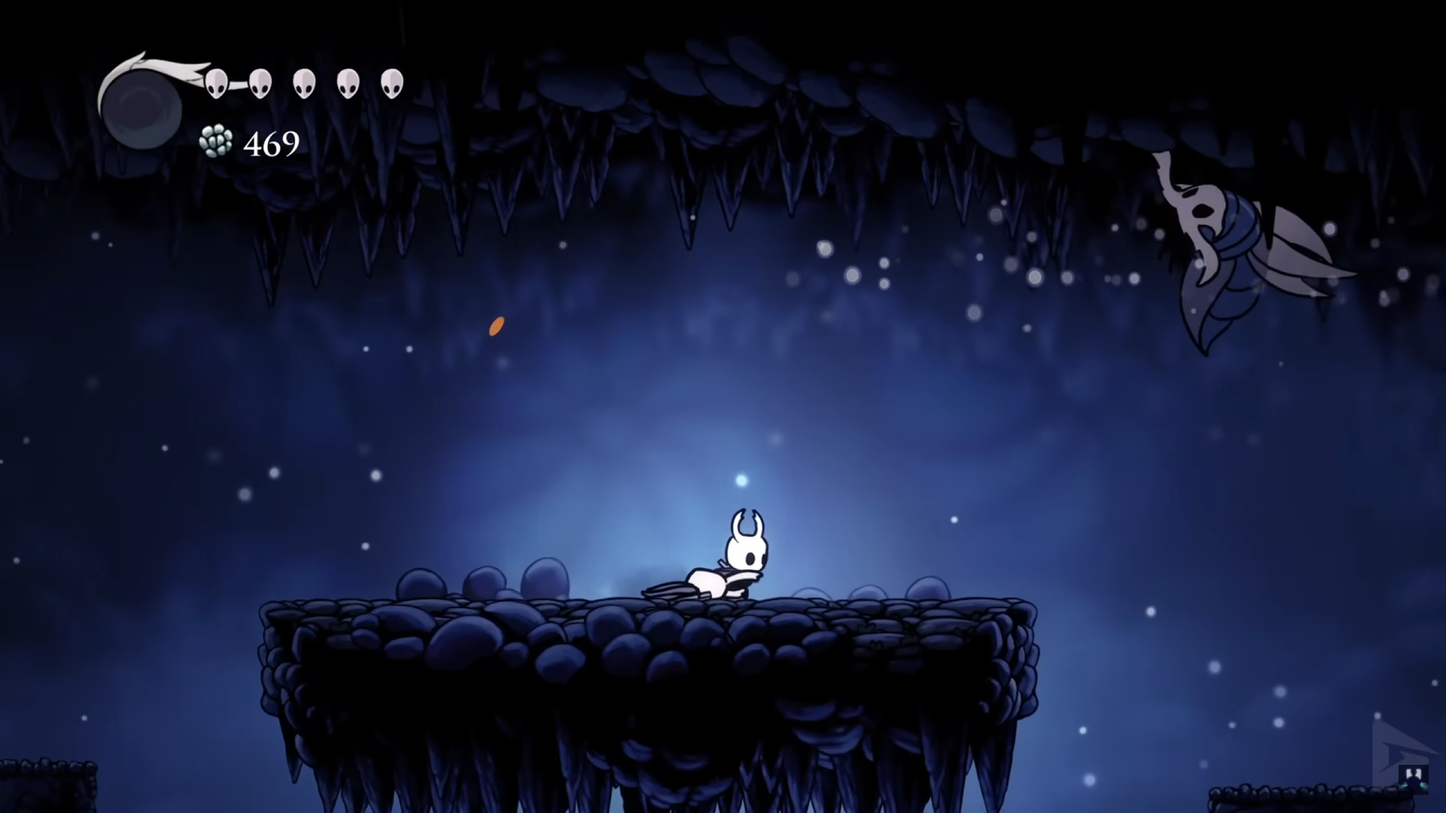HK: (715, 508, 774, 599)
